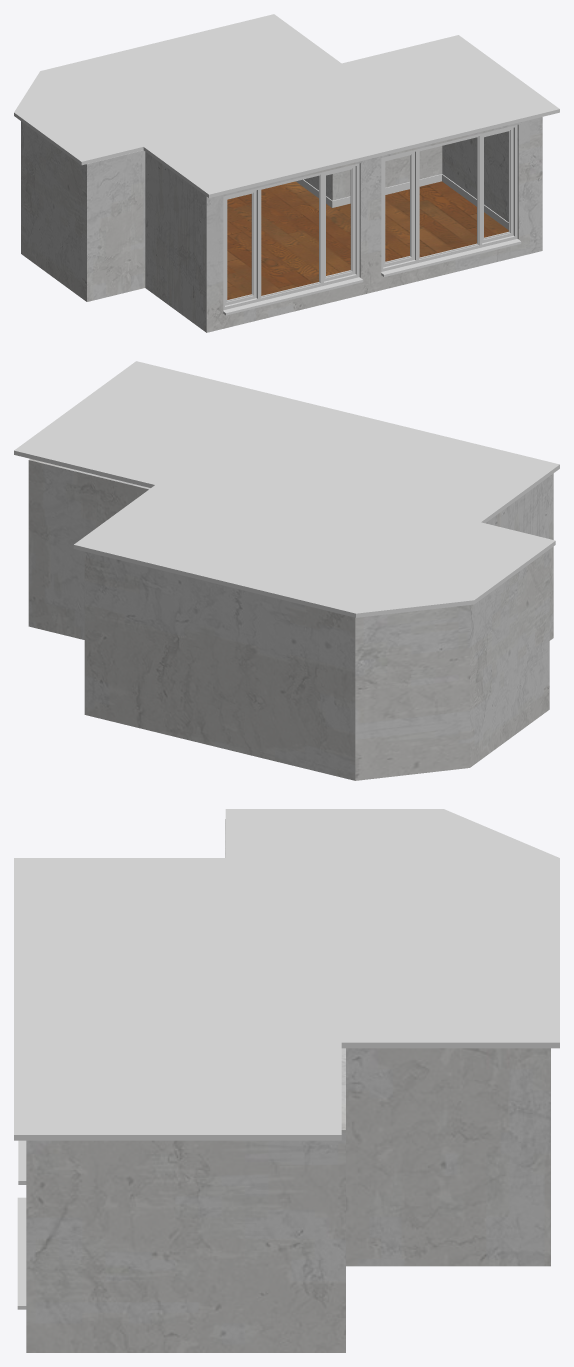
3 renders of one model, top to bottom at view 1: azimuth 30°, elevation 25°; view 2: azimuth 150°, elevation 25°; view 3: azimuth 270°, elevation 25°, orthographic. The views are drawn at different scales.
Visible parts, largest first — view 1: Ceiling, Room, Floor, Window, Window.001, Baseboard; view 2: Room, Ceiling; view 3: Ceiling, Room, Window.001.
Part boxes in pixels (<box>): Ceiling: <box>14,14,559,197</box>; Room: <box>21,117,542,332</box>; Floor: <box>227,181,508,299</box>; Window: <box>223,163,363,315</box>; Window.001: <box>381,125,521,276</box>; Baseboard: <box>296,174,508,229</box>; Room: <box>28,459,553,780</box>; Ceiling: <box>14,361,559,617</box>; Ceiling: <box>14,809,559,1140</box>; Room: <box>26,819,550,1352</box>; Window.001: <box>17,1197,26,1309</box>.
Size of the model in its own units: 7.52 by 2.46 by 5.33.
Materials: 2 (2 with a texture image).
